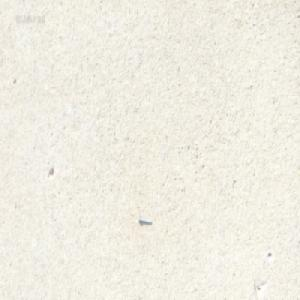Nail: (137, 215, 152, 224)
